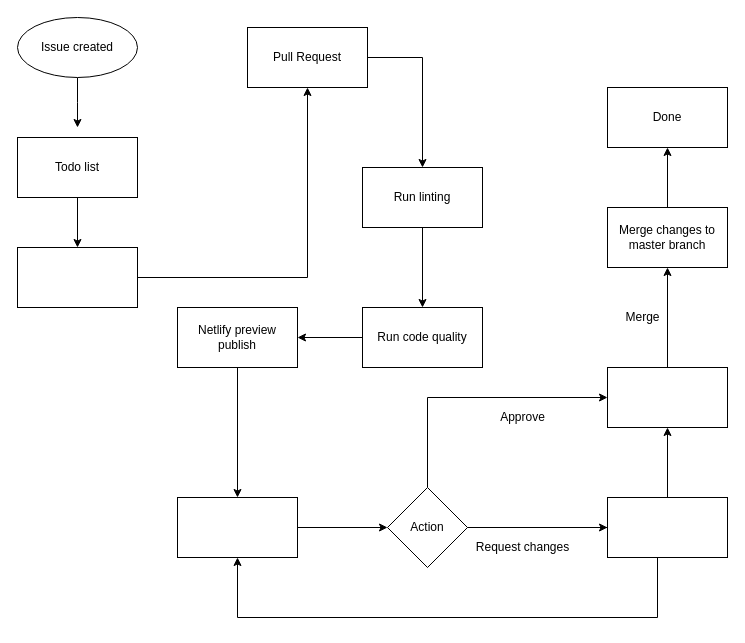
Image size: 745x643. Some labels were removed from this diagram. The box of each missing label's shape, as (x1, y1, x2, y2) in pixels:
Approved list: (606, 366, 728, 428)
Push changes to a separate branch: (16, 246, 138, 308)
Request for review: (176, 496, 298, 558)
Review in progress list: (606, 496, 728, 558)
